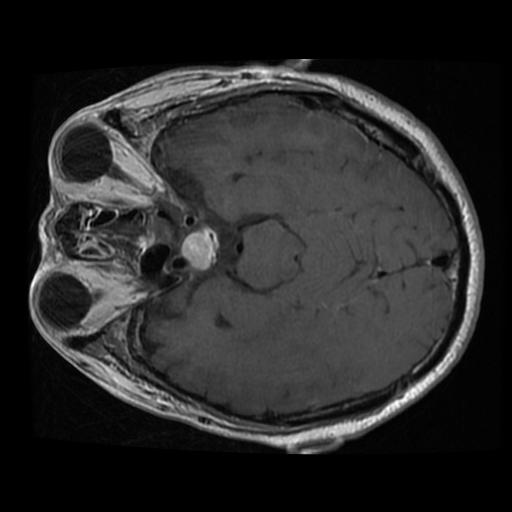pituitary tumour: (180, 231, 210, 268)
